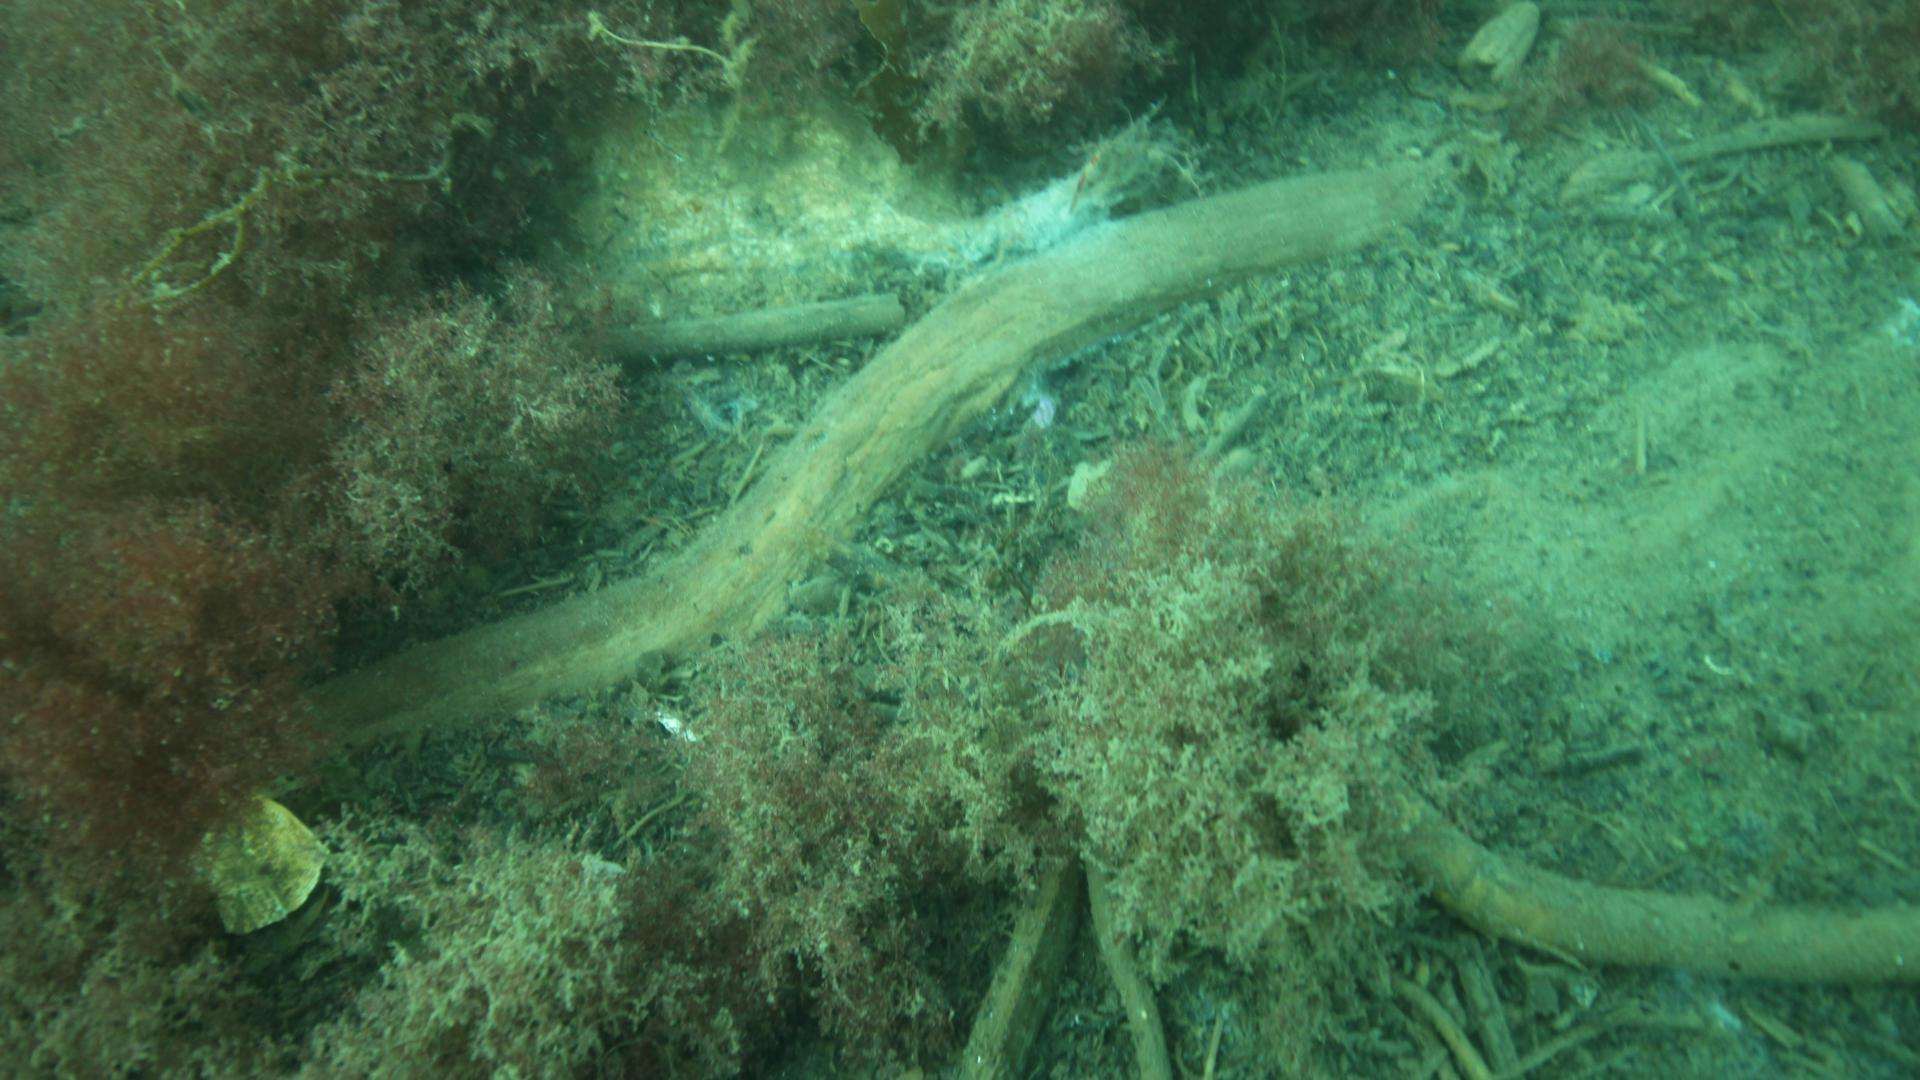wood: (291, 161, 1435, 749), (964, 858, 1077, 1080), (607, 290, 906, 356), (1089, 870, 1167, 1080)
